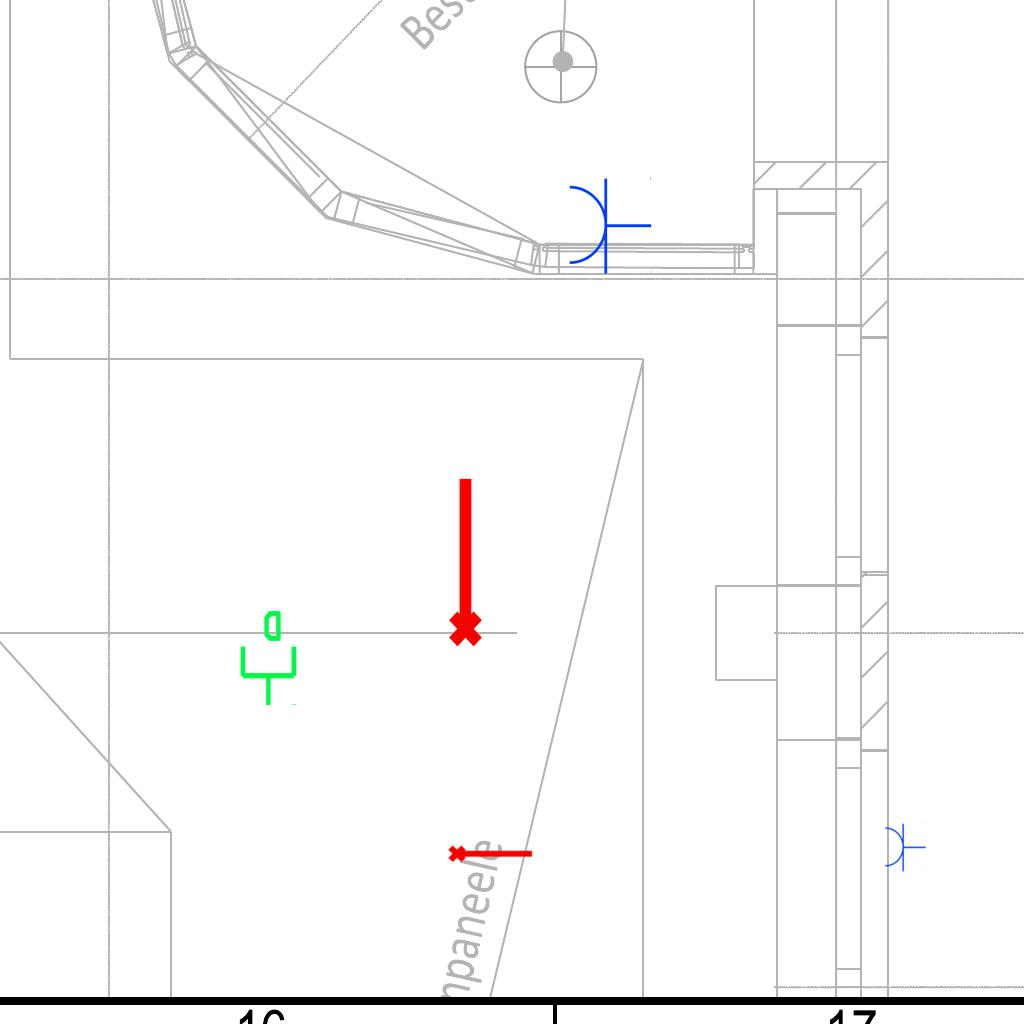ASR_Ansaugoeffnung: (440, 473, 486, 649), (447, 841, 535, 864)
Datenanschluss_einfach: (232, 608, 301, 708)
Schukosteckdose_einfach: (565, 175, 652, 275), (883, 822, 926, 872)
